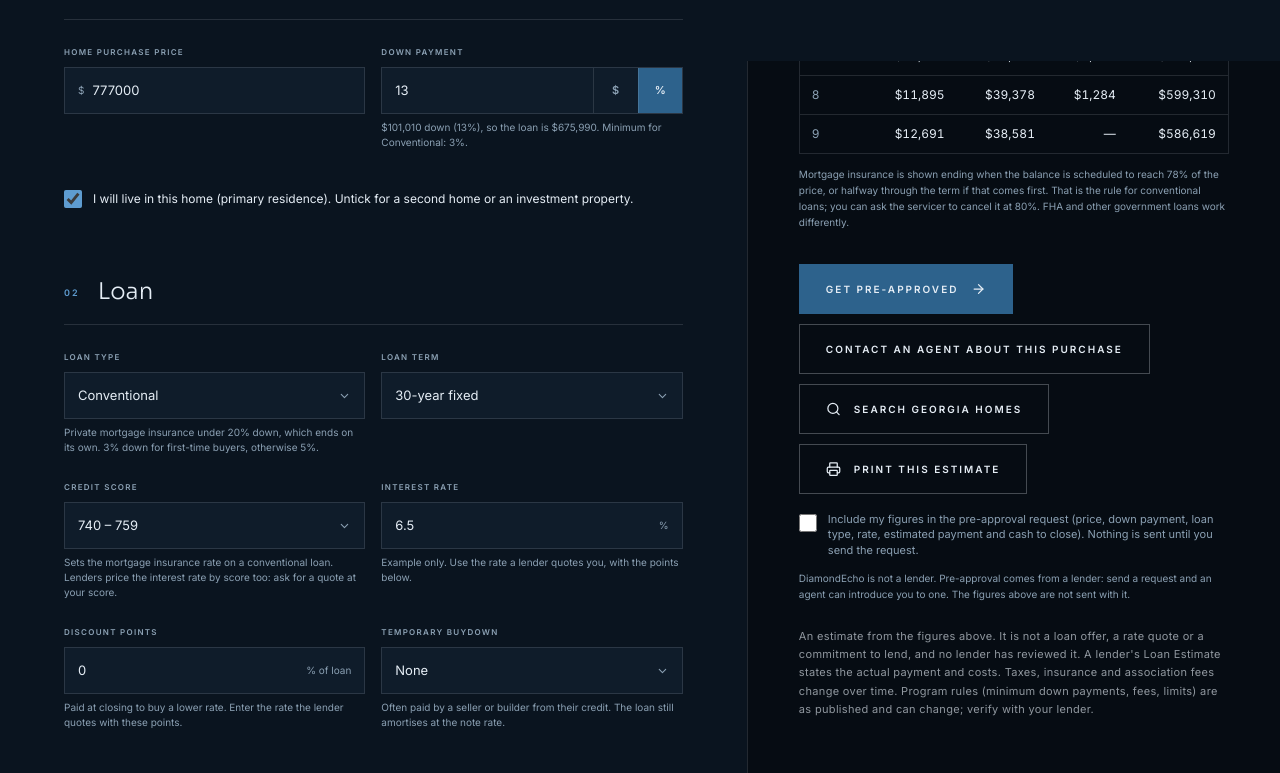
Test case: nothing typed travels in the pre-approval link unless the visitor ticks the box
Later steps or results of the test are not shown.
(page scrolled)
Click the 2nd checkbox at [808, 523], box [799,514,817,532]
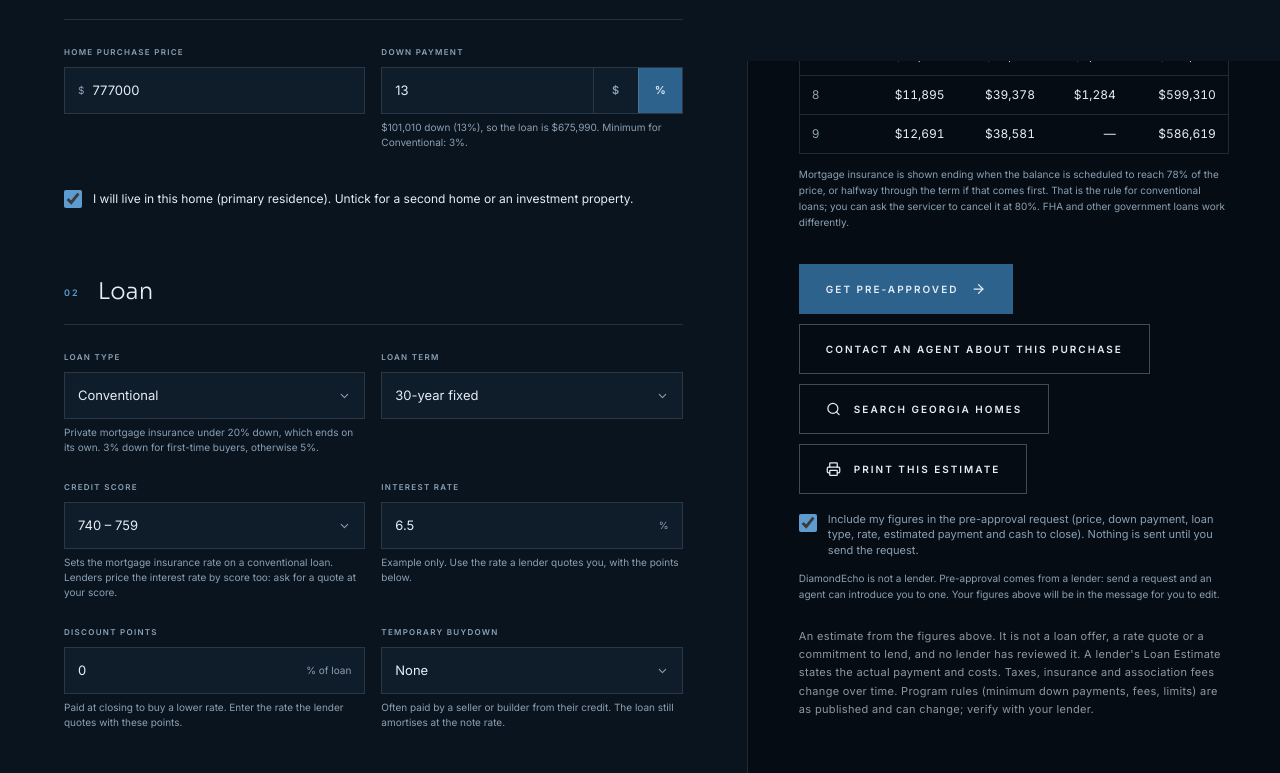
Now the text "Your figures above will be in the message for you to edit." is shown, box [952,588,1220,600]
